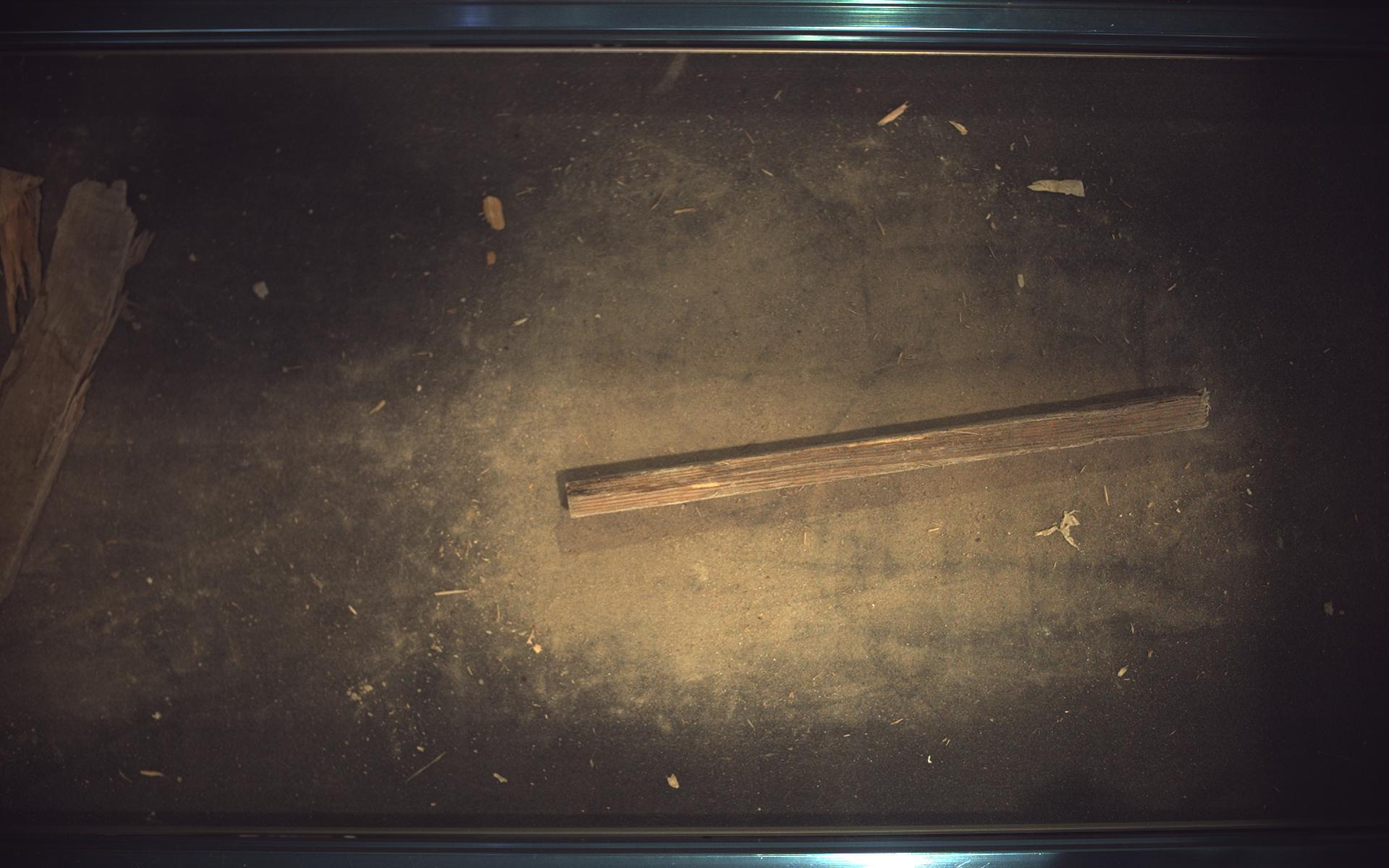wood: (559, 389, 1212, 519), (1, 179, 148, 602), (1, 167, 41, 334)
